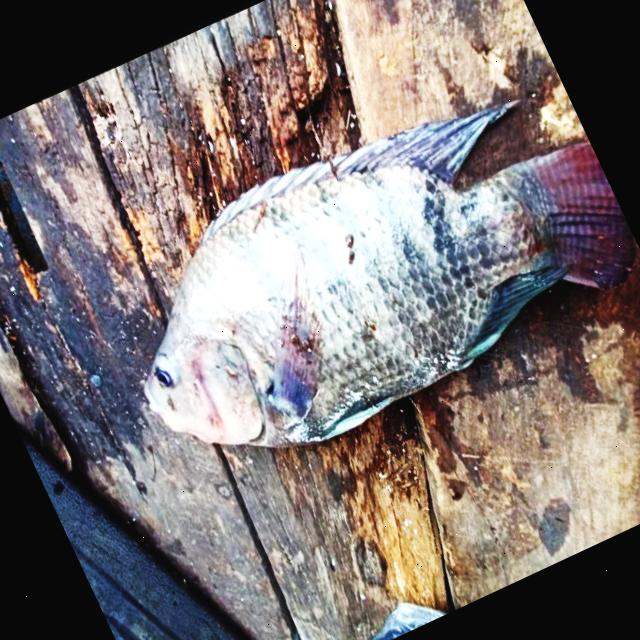Tilapia Lake Virus -TiLV-: (144, 102, 632, 447)
